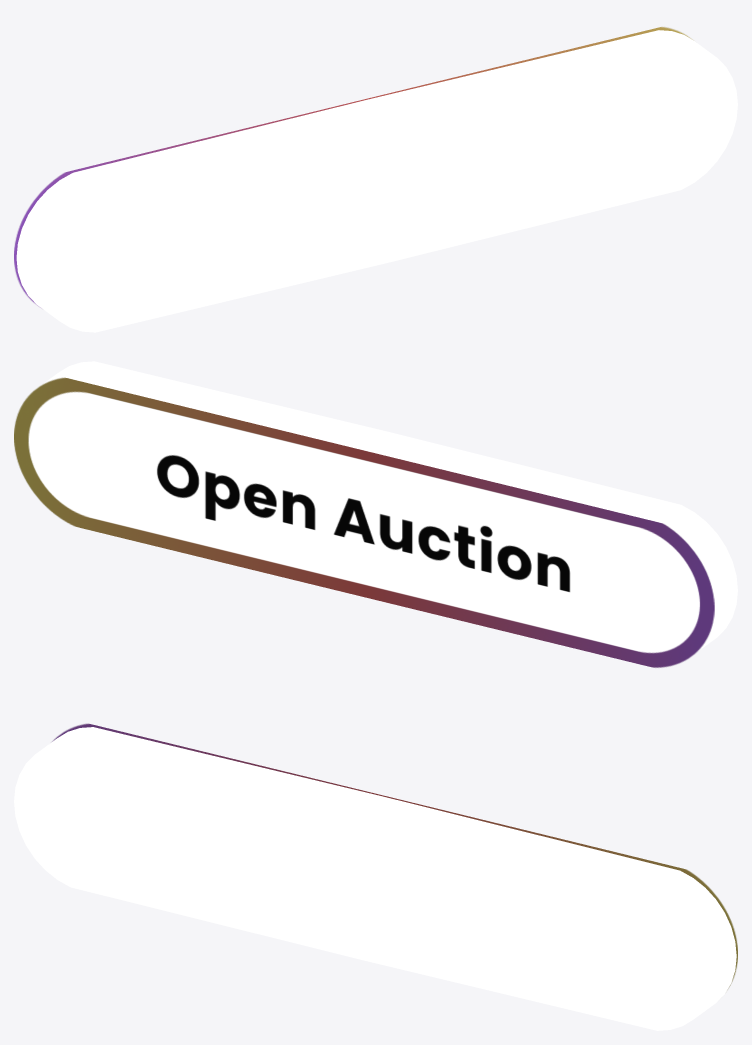
File: openAuctionBtn.glb
3 renders of one model, top to bottom at view 1: azimuth 30°, elevation 25°; view 2: azimuth 150°, elevation 25°; view 3: azimuth 330°, elevation 25°, orthographic.
Visible parts, largest first — view 1: register.002, Plane.002; view 2: register.002, Plane.002; view 3: register.002, Plane.002.
Part boxes in pixels (x1,y1,x2,y2): register.002: [16, 30, 737, 332]; Plane.002: [14, 27, 692, 307]; register.002: [27, 361, 737, 654]; Plane.002: [14, 377, 714, 667]; register.002: [14, 727, 736, 1030]; Plane.002: [52, 723, 737, 989].
Bounding box in the file's own units: 3.5 × 0.7036 × 0.2142.
2 materials, 1 textured.
